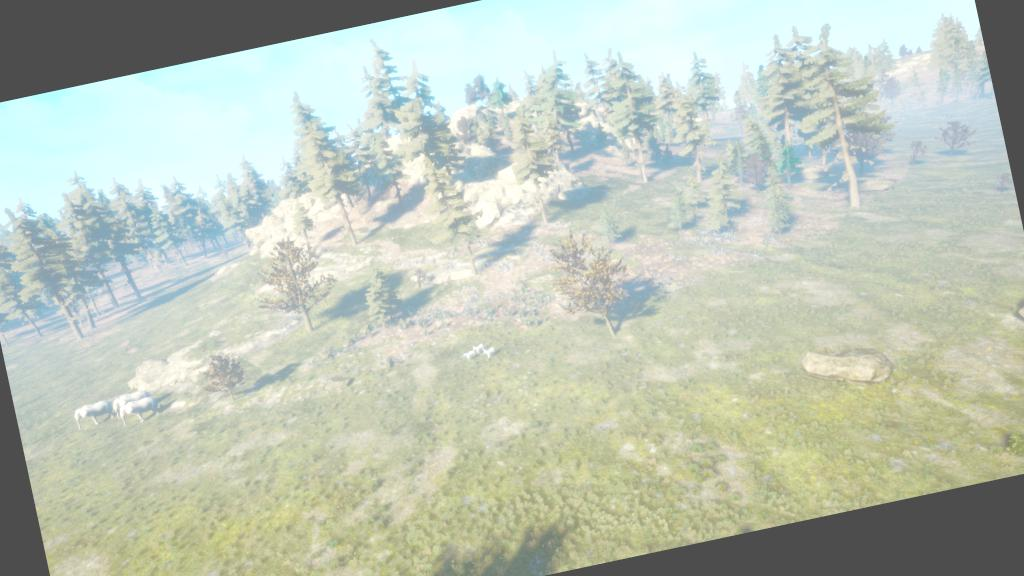elephant: (116, 394, 166, 432), (70, 398, 118, 432), (111, 388, 157, 422)
zebra: (459, 347, 479, 362), (470, 340, 488, 356), (481, 346, 497, 362)
